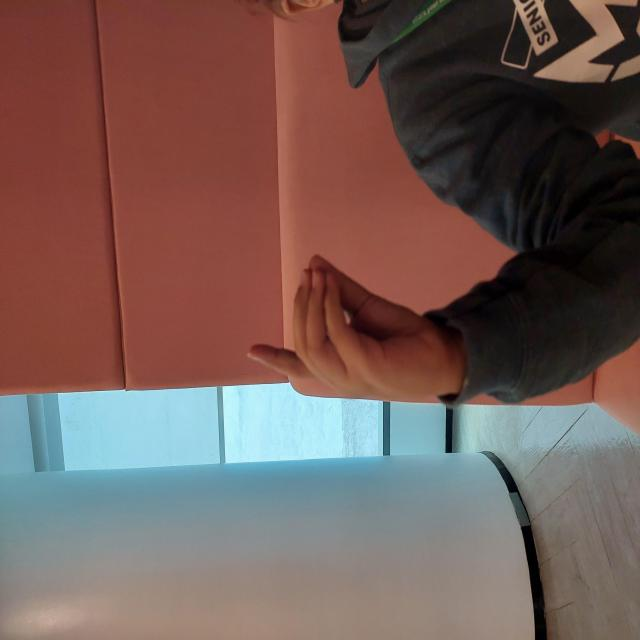D: (231, 240, 392, 458)
